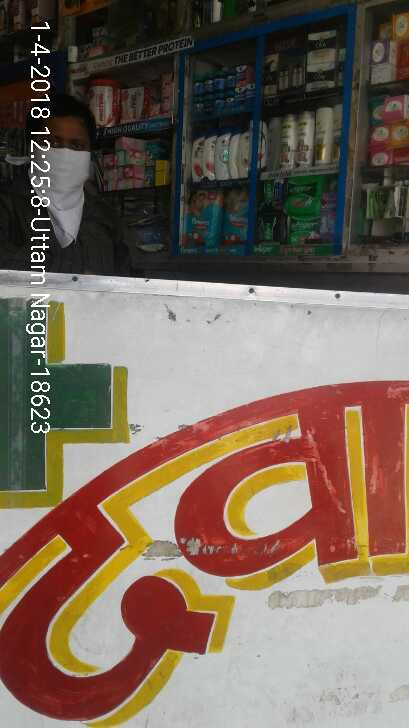vicks: (193, 63, 256, 105)
